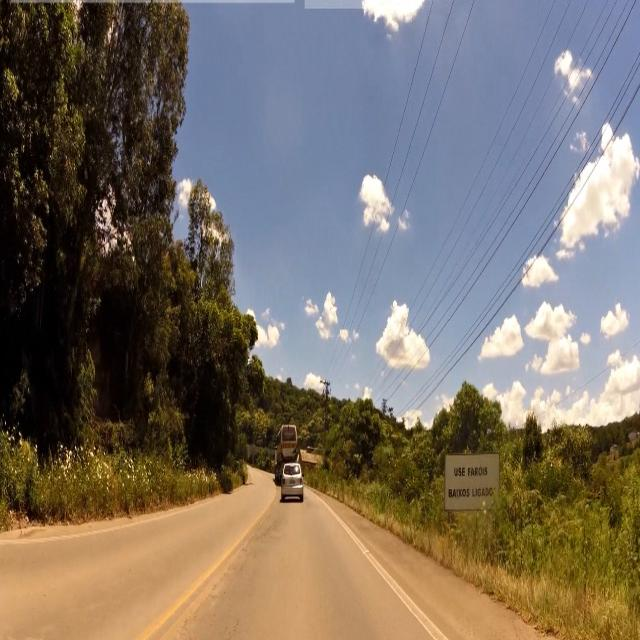E-5: (447, 453, 502, 506)
